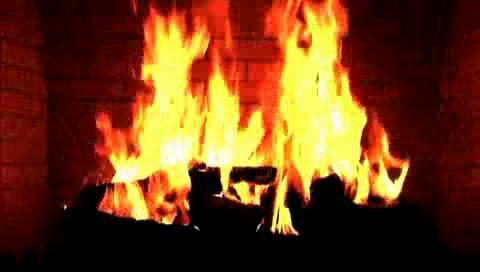fire: (85, 0, 436, 231)
